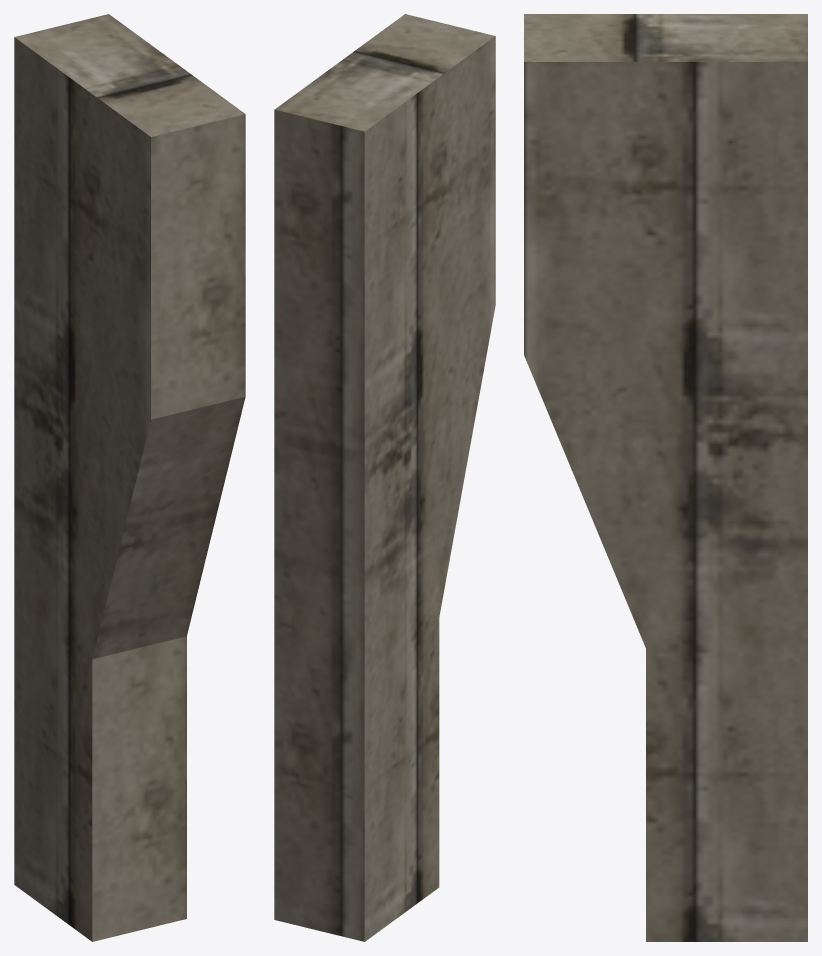
The model's file is MO_PILLAR_05.fbx.
The picture shows the model from 3 angles, left to right: view 1: azimuth 30°, elevation 25°; view 2: azimuth 150°, elevation 25°; view 3: azimuth 270°, elevation 25°; orthographic projection. The views are drawn at different scales.
Visible parts, largest first — view 1: MO_PILLAR_05; view 2: MO_PILLAR_05; view 3: MO_PILLAR_05.
Boxes of the visible parts, <box> form: MO_PILLAR_05: <box>14,14,245,941</box>; MO_PILLAR_05: <box>274,14,495,941</box>; MO_PILLAR_05: <box>524,14,807,941</box>.
Size of the model in its own units: 0.7 by 6 by 1.75.
